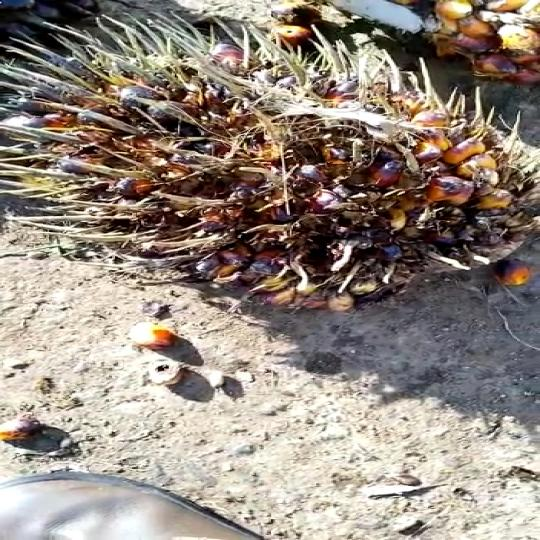terlalu masak: (0, 0, 540, 313)
